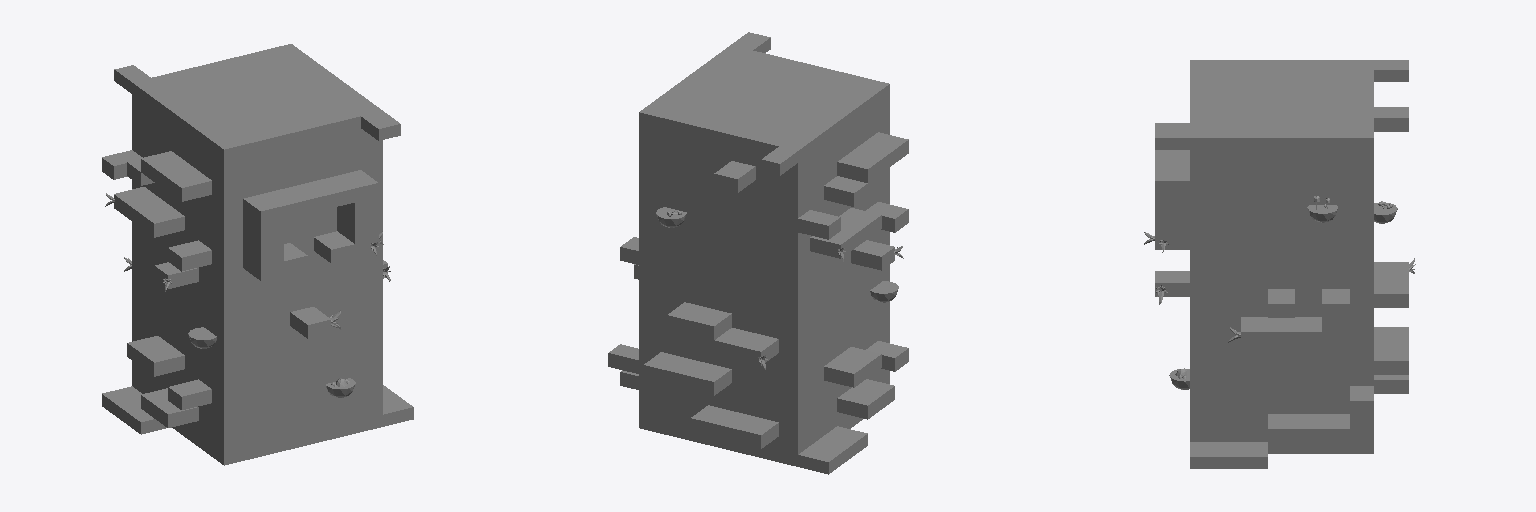
The model's file is Prehistoric_Level_Base.obj.
The picture shows the model from 3 angles: view 1: azimuth 30°, elevation 25°; view 2: azimuth 150°, elevation 25°; view 3: azimuth 270°, elevation 25°; orthographic projection.
Parts seen in each view (by area): view 1: FINAL_level_Base001; view 2: FINAL_level_Base001; view 3: FINAL_level_Base001.
Boxes of the visible parts, x1=… form: FINAL_level_Base001: x1=102, y1=44, x2=413, y2=465; FINAL_level_Base001: x1=608, y1=32, x2=908, y2=474; FINAL_level_Base001: x1=1155, y1=60, x2=1408, y2=468.
Size of the model in its own units: 199 by 266 by 207.